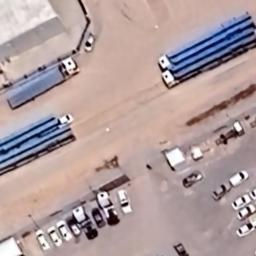SUV: (94, 188, 120, 228)
pickup: (228, 165, 250, 187)
sedan: (114, 189, 136, 217), (233, 216, 256, 238), (33, 228, 50, 254), (89, 203, 105, 229), (231, 192, 254, 210), (45, 227, 64, 246), (56, 220, 71, 242), (233, 203, 256, 217), (68, 216, 82, 237)
truck: (154, 0, 256, 75), (161, 16, 256, 92), (2, 56, 82, 110), (1, 115, 82, 153)
unknown: (81, 32, 99, 56), (182, 172, 206, 186)
